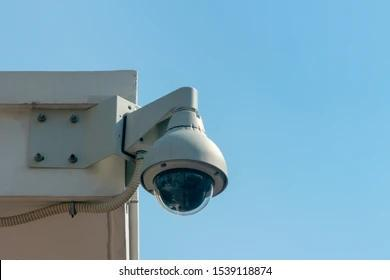360-Cam: (138, 129, 238, 223)
